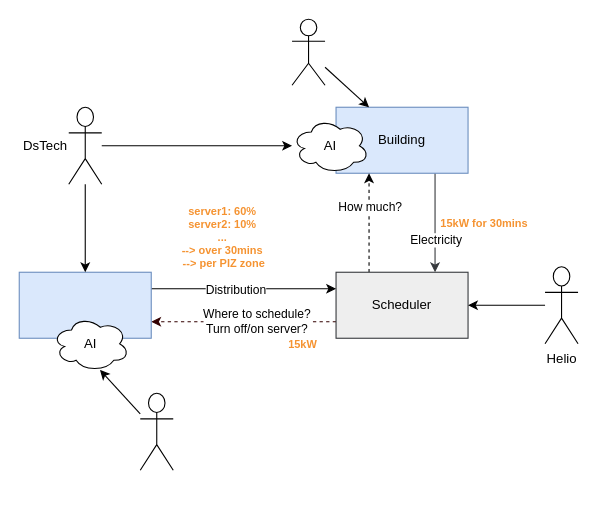
The diagram is 597 pixels wide and 513 high, and some of its shapes have lost their labels. The shapes that lost their labels are listed below. From the top down, each one's centre as x and y in pixels, then its label:
(308,51): EMPA
(84,304): DataCenter
(156,431): LTU
